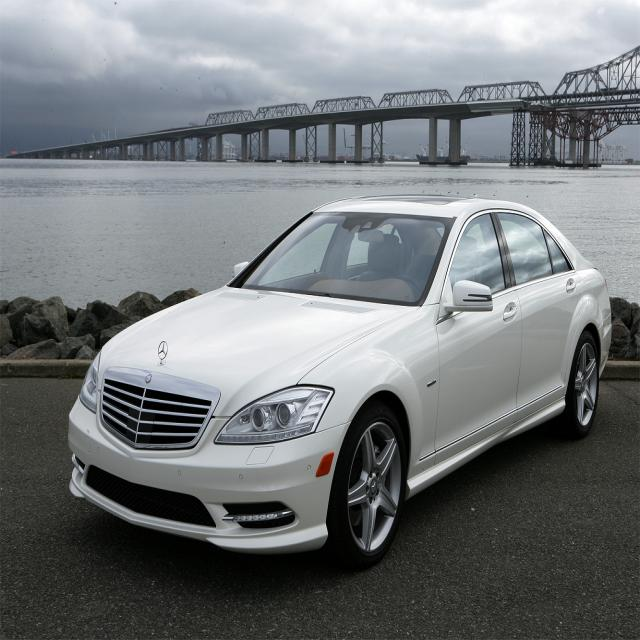car: (61, 188, 613, 565)
